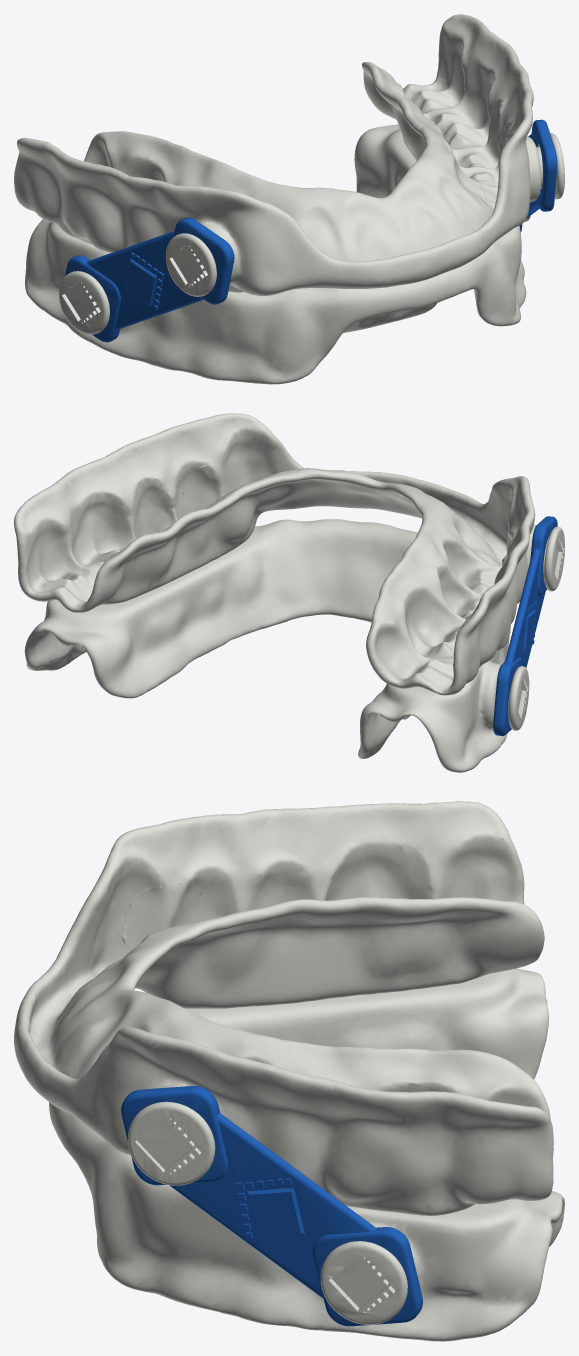
File: DDSO-Posterior.glb
The picture shows the model from 3 angles, top to bottom: view 1: azimuth 30°, elevation 25°; view 2: azimuth 150°, elevation 25°; view 3: azimuth 270°, elevation 25°; orthographic projection. The views are drawn at different scales.
Parts seen in each view (by area): view 1: Upper, Lower, Band0, Band1; view 2: Upper, Lower, Band0; view 3: Upper, Lower, Band1.
Part boxes in pixels (box(x1,y1,x2,y2)): Upper: box(14, 14, 564, 296); Lower: box(25, 124, 530, 384); Band0: box(61, 217, 234, 342); Band1: box(519, 119, 557, 232); Upper: box(14, 413, 564, 695); Lower: box(24, 519, 529, 772); Band0: box(493, 516, 557, 736); Upper: box(14, 801, 553, 1215); Lower: box(49, 968, 564, 1341); Band1: box(121, 1086, 422, 1326).
Size of the model in its own units: 0.0649 by 0.0269 by 0.0486.
